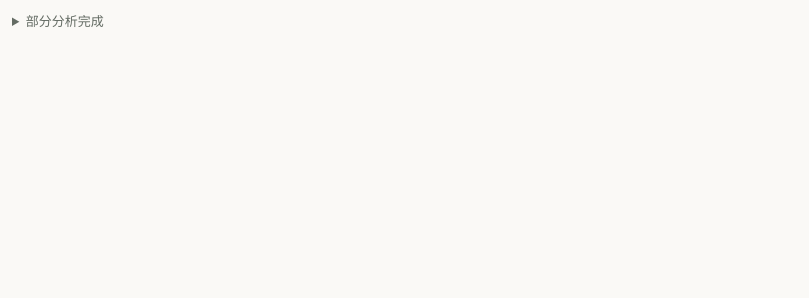
available partial results stay behind one compact disclosure
expect the text "可阅读" is not shown: met
What coordinates should you click on to do the following:
click the heading "部分分析完成"
I would click on:
 (65, 21)
Its box is [26,12,104,30].
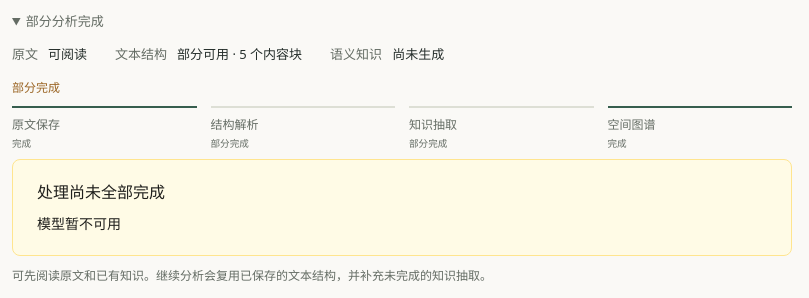
expect the text "可阅读" is shown: met, box [48,44,87,65]
expect the text "部分可用 · 5 个内容块" is shown: met, box [177,44,302,65]
expect the text "尚未生成" is shown: met, box [392,44,444,65]
